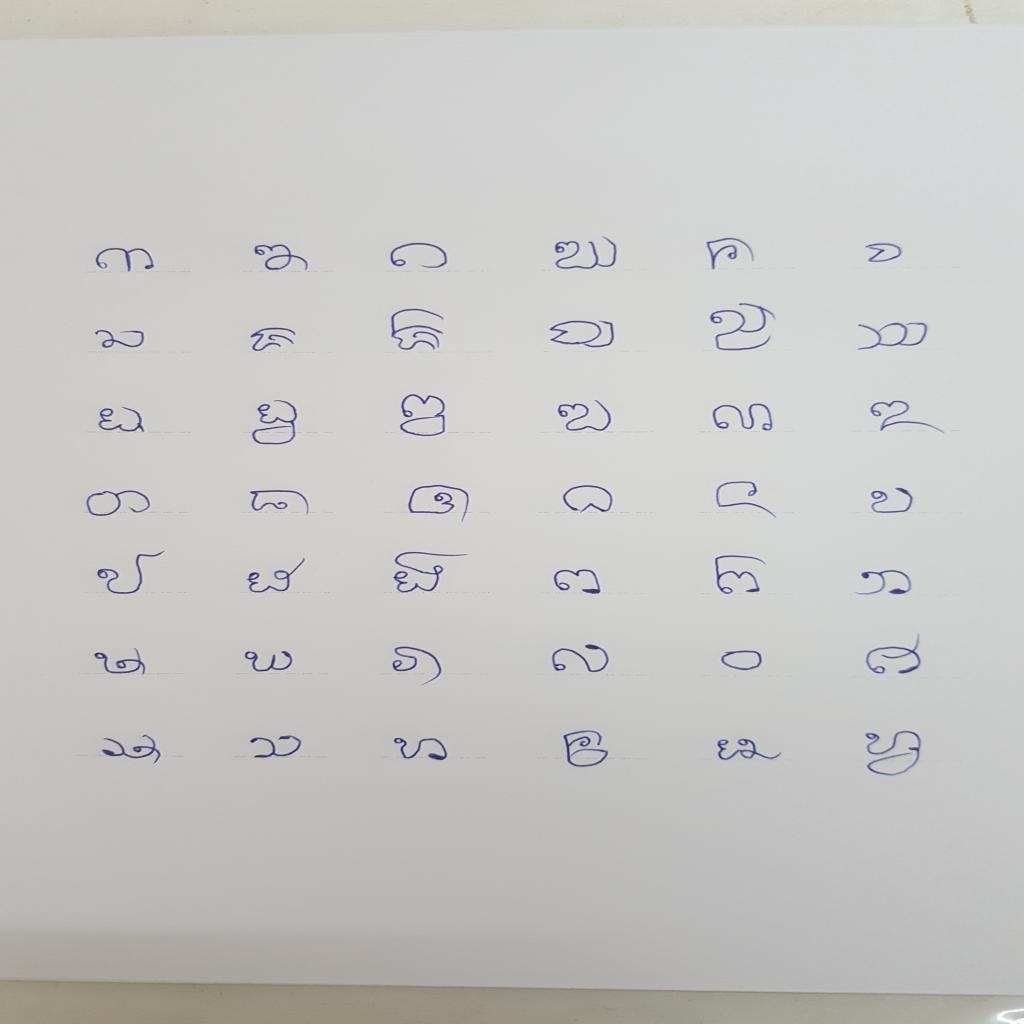LN001: (88, 244, 164, 278)
LN002: (246, 242, 318, 275)
LN003: (384, 240, 456, 273)
LN004: (549, 233, 625, 274)
LN006: (861, 241, 908, 267)
LN007: (90, 326, 151, 353)
LN008: (246, 326, 301, 356)
LN009: (384, 307, 452, 356)
LN010: (544, 317, 624, 352)
LN012: (850, 318, 936, 354)
LN013: (94, 404, 154, 438)
LN014: (248, 397, 305, 449)
LN015: (396, 393, 453, 441)
LN016: (552, 397, 619, 436)
LN017: (706, 402, 781, 437)
LN018: (864, 398, 953, 439)
LN019: (81, 487, 157, 521)
LN020: (243, 487, 318, 521)
LN021: (403, 483, 477, 528)
LN022: (556, 483, 621, 518)
LN023: (709, 478, 783, 524)
LN024: (862, 484, 920, 518)
LN026: (241, 554, 313, 598)
LN027: (388, 550, 476, 598)
LN029: (706, 552, 774, 599)
LN030: (849, 567, 921, 600)
LN031: (86, 645, 153, 680)
LN032: (239, 648, 300, 677)
LN033: (386, 644, 449, 690)
LN035: (715, 647, 770, 675)
LN036: (860, 631, 929, 680)
LN037: (95, 732, 169, 769)
LN038: (245, 733, 308, 763)
LN039: (388, 735, 455, 766)
LN040: (557, 729, 615, 771)
LN042: (859, 728, 930, 781)
